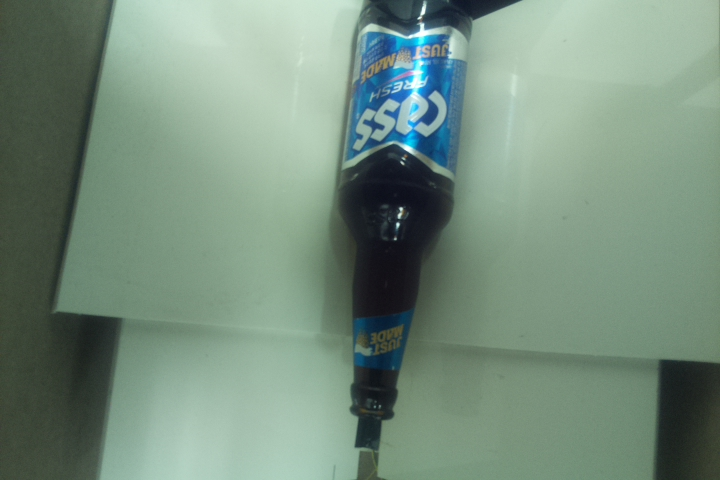makju: (329, 1, 474, 420)
